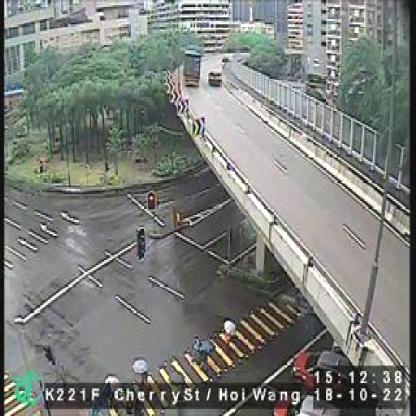Car: (208, 68, 221, 87)
Truck: (182, 52, 202, 90)
